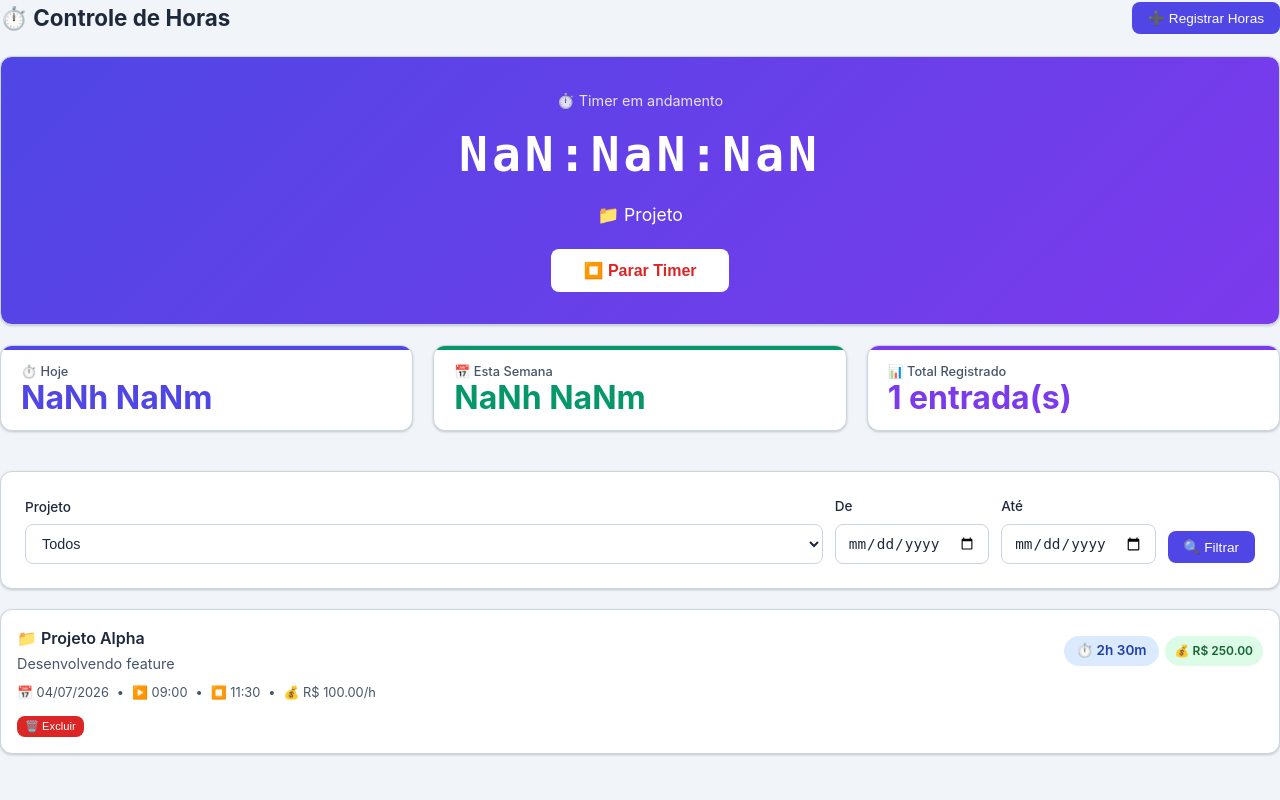
Test: TimeTracking › removes entry locally when delete fails
Click the button titled "Excluir": x=50, y=726 [17, 716, 84, 736]
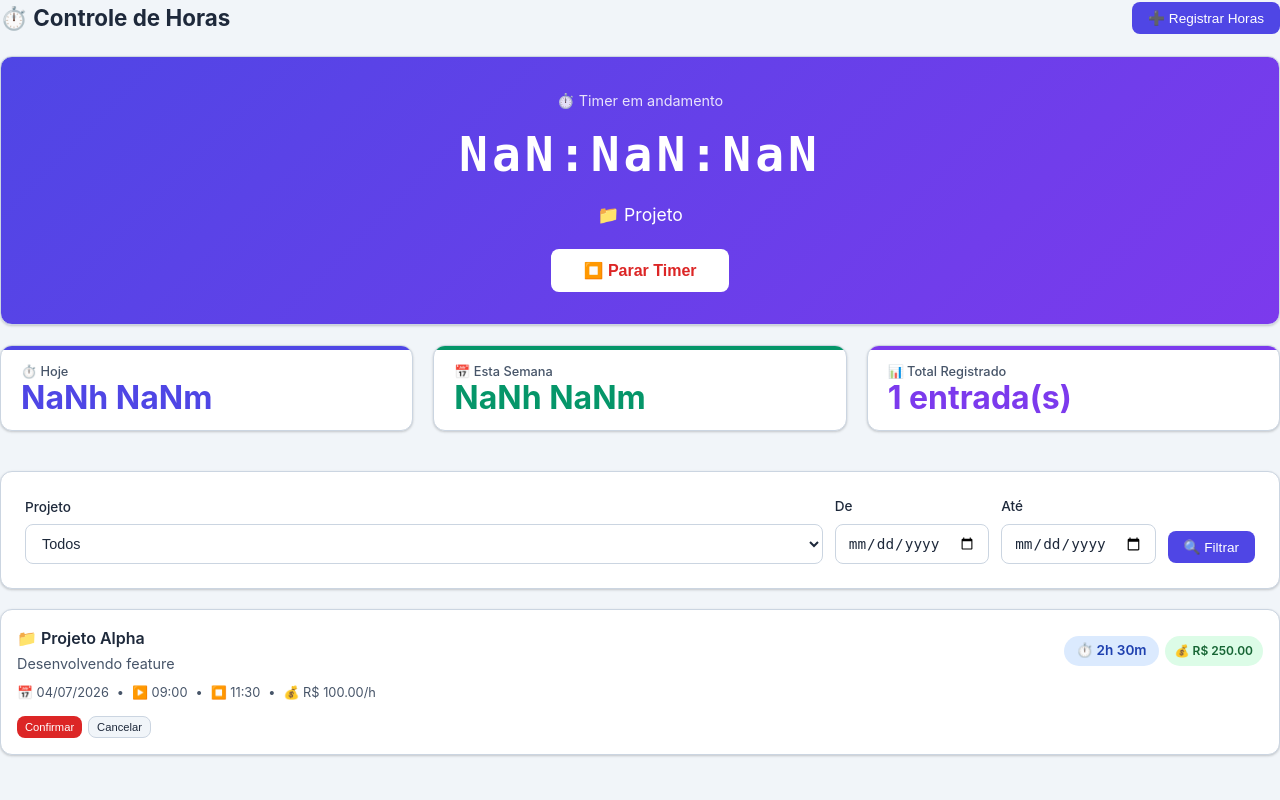
Click the button "Confirmar": x=50, y=726 [17, 716, 82, 738]
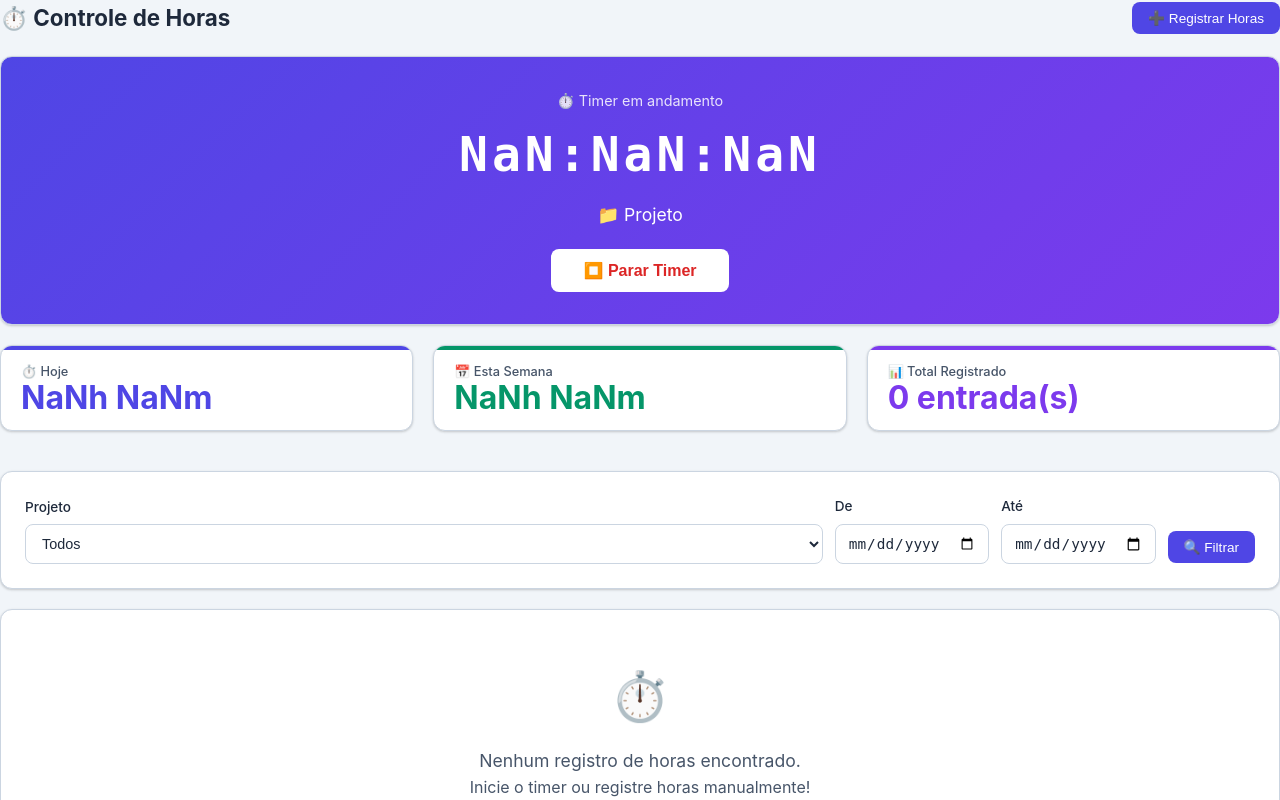
Now the text "Nenhum registro de horas encontrado." is shown, box [479, 750, 801, 771]
